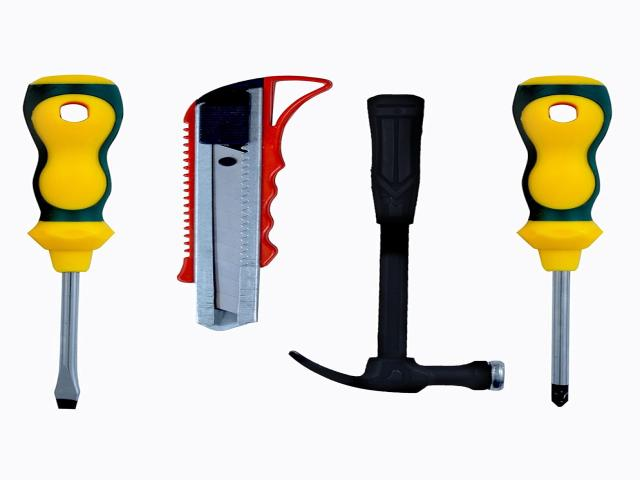Hammer: (290, 95, 506, 393)
Screwdriver: (23, 75, 123, 409), (513, 76, 611, 407)
Utility knife: (177, 76, 332, 331)
